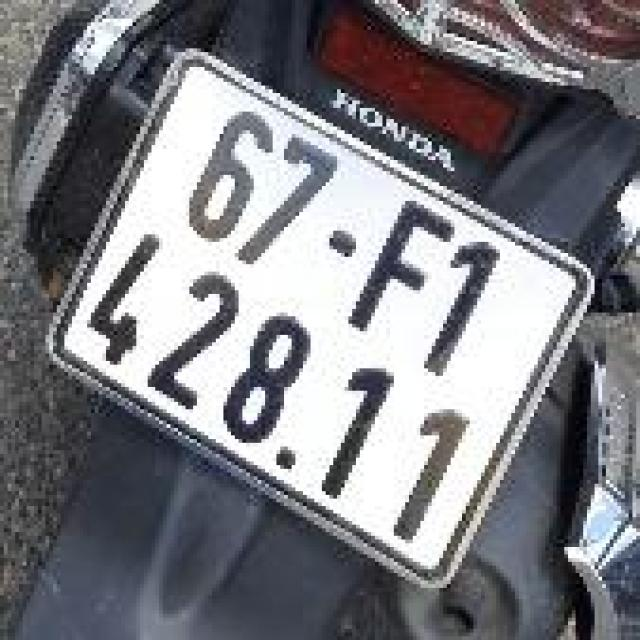1: (408, 220, 525, 390), (377, 388, 493, 555), (298, 347, 411, 510)
2: (134, 255, 265, 422)
4: (74, 213, 195, 376)
6: (177, 89, 296, 253)
7: (228, 120, 357, 282)
8: (202, 296, 332, 466)
F: (341, 183, 471, 349)
